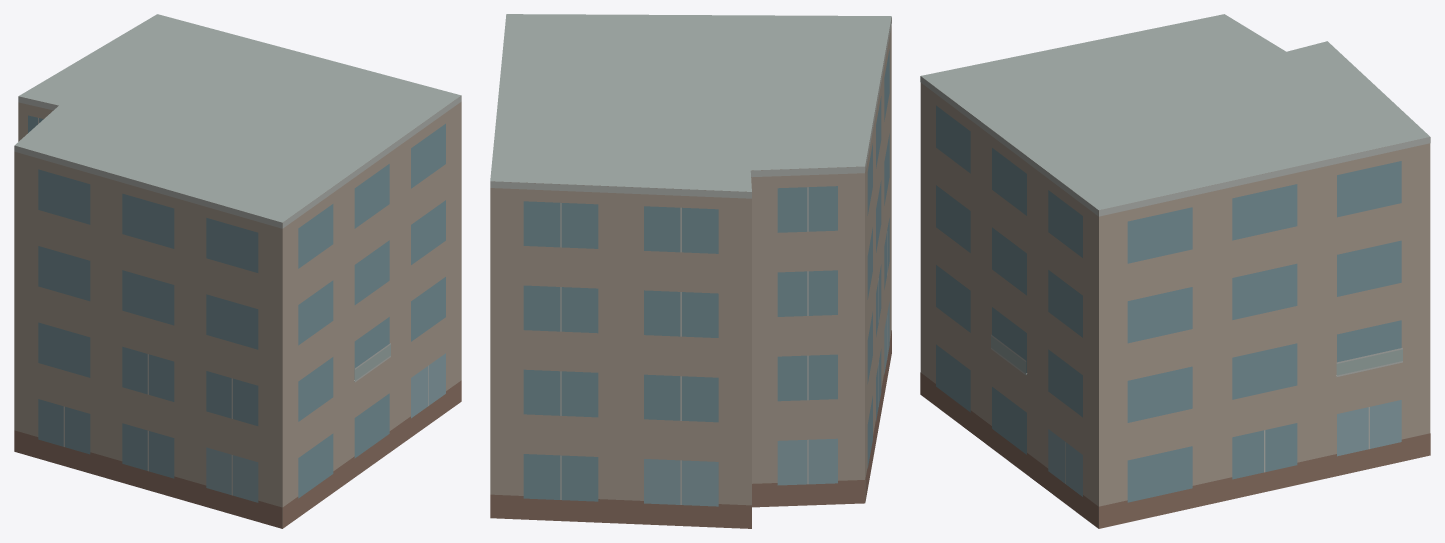
File: residential-dd483ca9-0b24-4399-860c-703bd419c45b.glb
The picture shows the model from 3 angles, left to right: view 1: azimuth 30°, elevation 25°; view 2: azimuth 150°, elevation 25°; view 3: azimuth 270°, elevation 25°; orthographic projection. The views are drawn at different scales.
Parts seen in each view (by area): view 1: residential-dd483ca9-0b24-4399-860c-703bd419c45b.tmp; view 2: residential-dd483ca9-0b24-4399-860c-703bd419c45b.tmp; view 3: residential-dd483ca9-0b24-4399-860c-703bd419c45b.tmp.
Part boxes in pixels (x1,y1,x2,y2): residential-dd483ca9-0b24-4399-860c-703bd419c45b.tmp: (14,14,461,528); residential-dd483ca9-0b24-4399-860c-703bd419c45b.tmp: (490,14,891,528); residential-dd483ca9-0b24-4399-860c-703bd419c45b.tmp: (920,14,1430,528).
Size of the model in its own units: 16.13 by 12.2 by 17.71.
